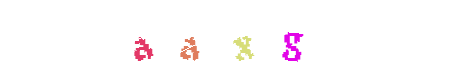A: (124, 0, 204, 80), (190, 0, 270, 80)
G: (252, 0, 332, 80)
X: (195, 0, 275, 80)
